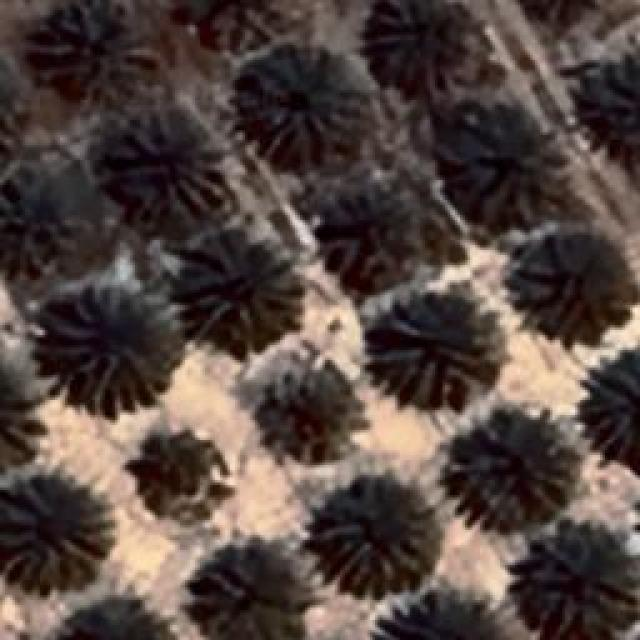PalmTree: (106, 23, 436, 616), (438, 405, 578, 530), (44, 287, 178, 415), (364, 292, 498, 410), (310, 472, 432, 598), (180, 230, 308, 350), (512, 528, 638, 638), (27, 0, 162, 102), (110, 107, 225, 220), (428, 124, 556, 222), (245, 48, 360, 150), (0, 480, 105, 590), (122, 422, 228, 520), (514, 235, 616, 333), (182, 560, 310, 638), (367, 0, 470, 92), (322, 184, 418, 282), (574, 350, 638, 462), (0, 171, 62, 271), (52, 593, 175, 640), (263, 376, 346, 444), (585, 65, 640, 155), (0, 354, 38, 474), (0, 53, 25, 161), (515, 0, 609, 27), (0, 349, 20, 467), (516, 0, 608, 18)
